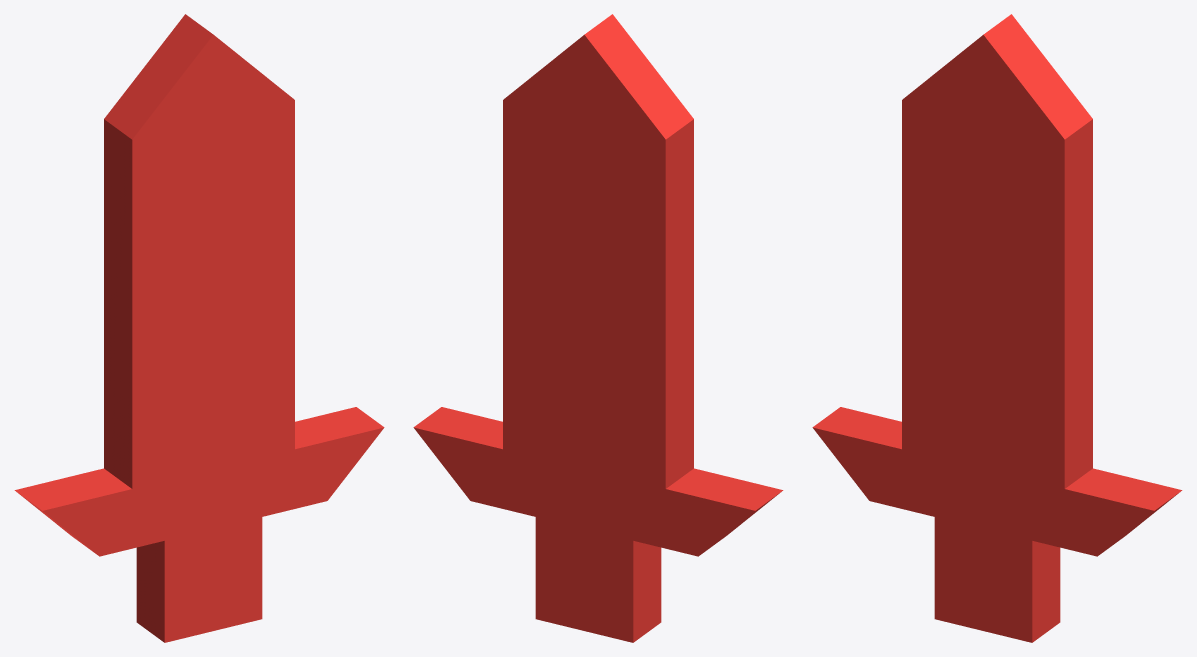
File: sword.glb
3 renders of one model, left to right at view 1: azimuth 30°, elevation 25°; view 2: azimuth 150°, elevation 25°; view 3: azimuth 330°, elevation 25°, orthographic.
Visible parts, largest first — view 1: Cube; view 2: Cube; view 3: Cube.
Boxes of the visible parts, left/top/right/bottom form: Cube: left=14, top=14, right=384, bottom=642; Cube: left=413, top=14, right=783, bottom=642; Cube: left=812, top=14, right=1182, bottom=642.
Bounding box in the file's own units: 0.42 × 0.7 × 0.06.
